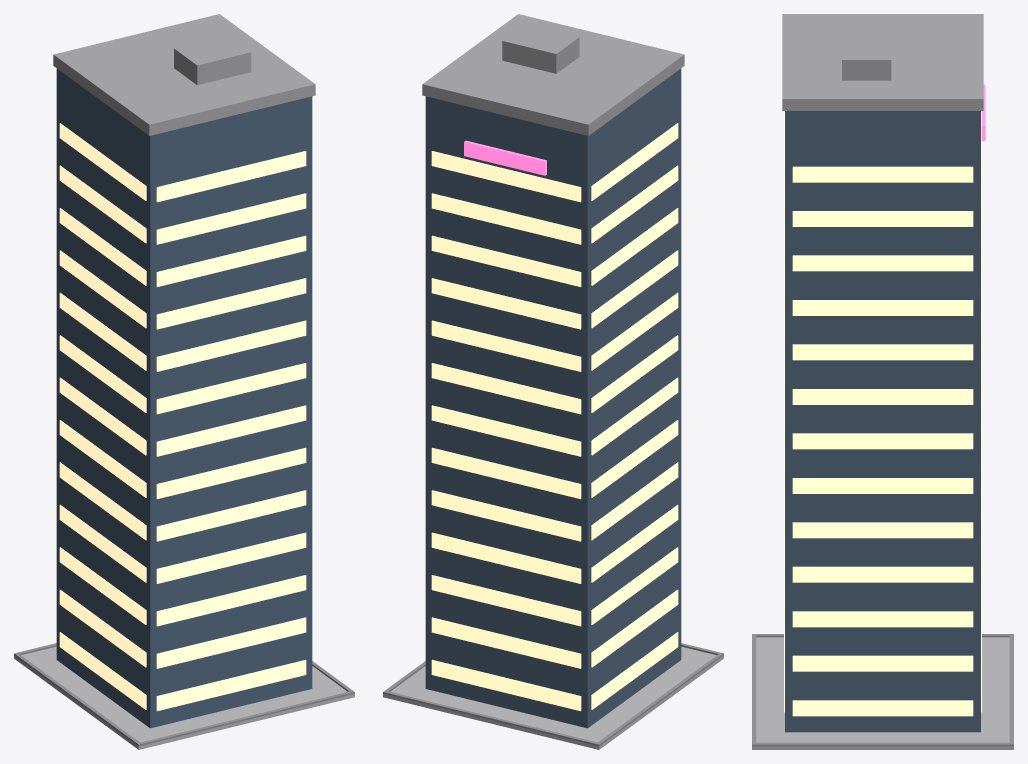
The model's file is bt-commercial-tower-1.glb.
3 renders of one model, left to right at view 1: azimuth 30°, elevation 25°; view 2: azimuth 150°, elevation 25°; view 3: azimuth 270°, elevation 25°, orthographic. The views are drawn at different scales.
Visible parts, largest first — view 1: body, parapet, skirt_slab, roofbox, win_s_8, win_s_2, win_s_3, win_s_0, win_s_4, win_s_5, win_s_9, win_s_1 (+20 smaller); view 2: body, parapet, skirt_slab, roofbox, win_n_8, win_n_2, win_n_3, win_n_0, win_n_4, win_n_5, win_n_9, win_n_1 (+21 smaller); view 3: body, parapet, skirt_slab, win_e_0, win_e_1, win_e_2, win_e_3, win_e_4, win_e_6, win_e_8, win_e_10, win_e_12 (+8 smaller).
Part boxes in pixels (x1,y1,x2,y2): body: (56, 68, 312, 728); parapet: (53, 14, 315, 135); skirt_slab: (14, 646, 354, 749); roofbox: (174, 35, 251, 85); win_s_8: (156, 320, 306, 371); win_s_2: (156, 575, 306, 626); win_s_3: (156, 532, 306, 583); win_s_0: (156, 659, 306, 711); win_s_4: (156, 490, 306, 541); win_s_5: (156, 447, 306, 499); win_s_9: (156, 278, 306, 329); win_s_1: (156, 617, 306, 668); body: (425, 68, 681, 728); parapet: (422, 14, 684, 135); skirt_slab: (383, 646, 723, 749); roofbox: (502, 24, 579, 73); win_n_8: (431, 320, 581, 371); win_n_2: (431, 575, 581, 626); win_n_3: (431, 532, 581, 583); win_n_0: (431, 659, 581, 711); win_n_4: (431, 490, 581, 541); win_n_5: (431, 447, 581, 499); win_n_9: (431, 278, 581, 329); win_n_1: (431, 617, 581, 668); body: (785, 111, 980, 732); parapet: (782, 14, 983, 110); skirt_slab: (752, 637, 1013, 749); win_e_0: (792, 700, 973, 716); win_e_1: (792, 655, 973, 671); win_e_2: (792, 611, 973, 627); win_e_3: (792, 566, 973, 582); win_e_4: (792, 522, 973, 538); win_e_6: (792, 433, 973, 449); win_e_8: (792, 344, 973, 360); win_e_10: (792, 255, 973, 271); win_e_12: (792, 166, 973, 182).
Size of the model in its own units: 16 by 44.45 by 16.
